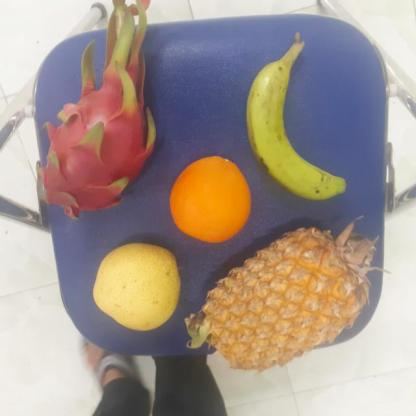banana: (246, 49, 338, 195)
orange: (169, 154, 253, 242)
pear: (92, 241, 184, 332)
pineapple: (198, 224, 379, 369)
pitaya: (38, 42, 161, 223)
